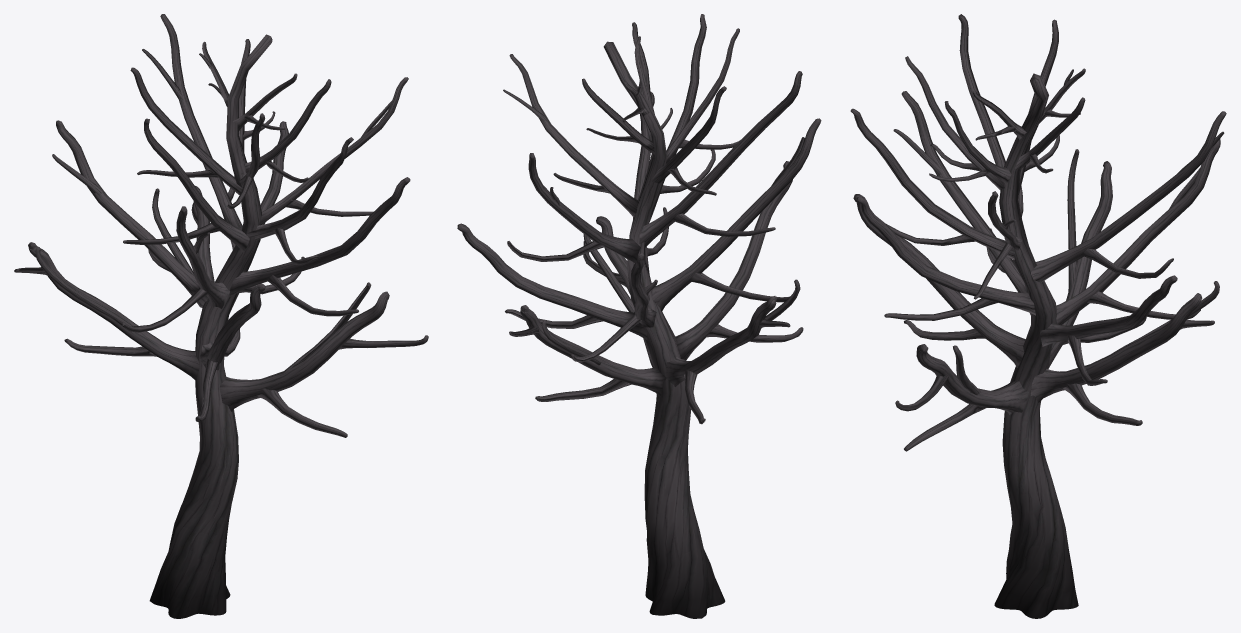
File: dead_1.glb
3 renders of one model, left to right at view 1: azimuth 30°, elevation 25°; view 2: azimuth 150°, elevation 25°; view 3: azimuth 270°, elevation 25°, orthographic. The views are drawn at different scales.
Visible parts, largest first — view 1: DeadTree_1; view 2: DeadTree_1; view 3: DeadTree_1.
Boxes of the visible parts, left/top/right/bottom form: DeadTree_1: left=14, top=14, right=428, bottom=618; DeadTree_1: left=457, top=14, right=821, bottom=618; DeadTree_1: left=850, top=14, right=1226, bottom=618.
Bounding box in the file's own units: 6.15 × 9.5 × 5.75.
Materials: 1 (1 with a texture image).
